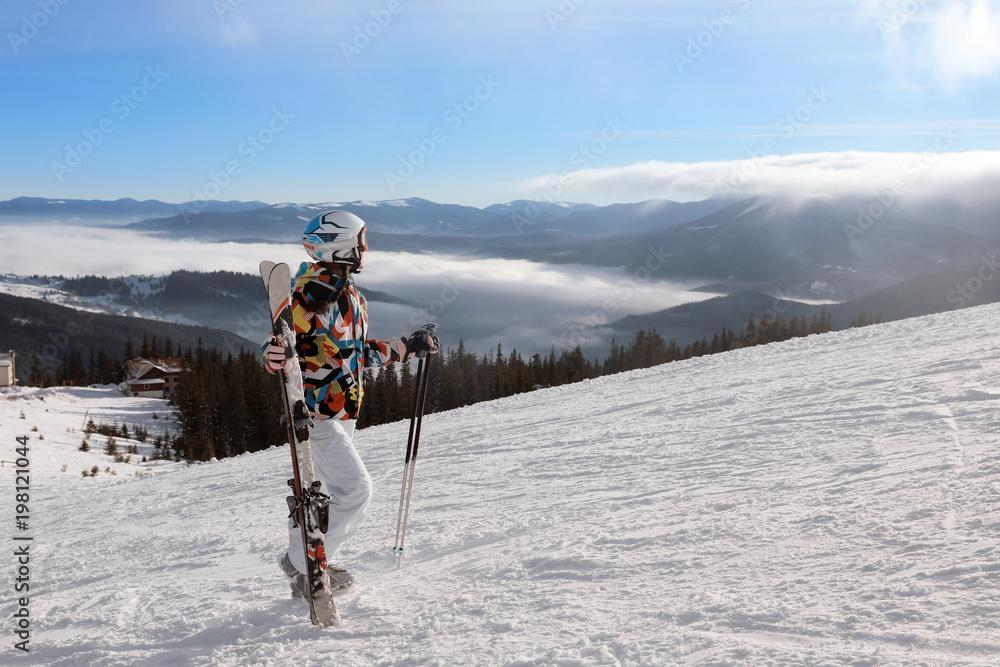Skis: (252, 258, 348, 626)
